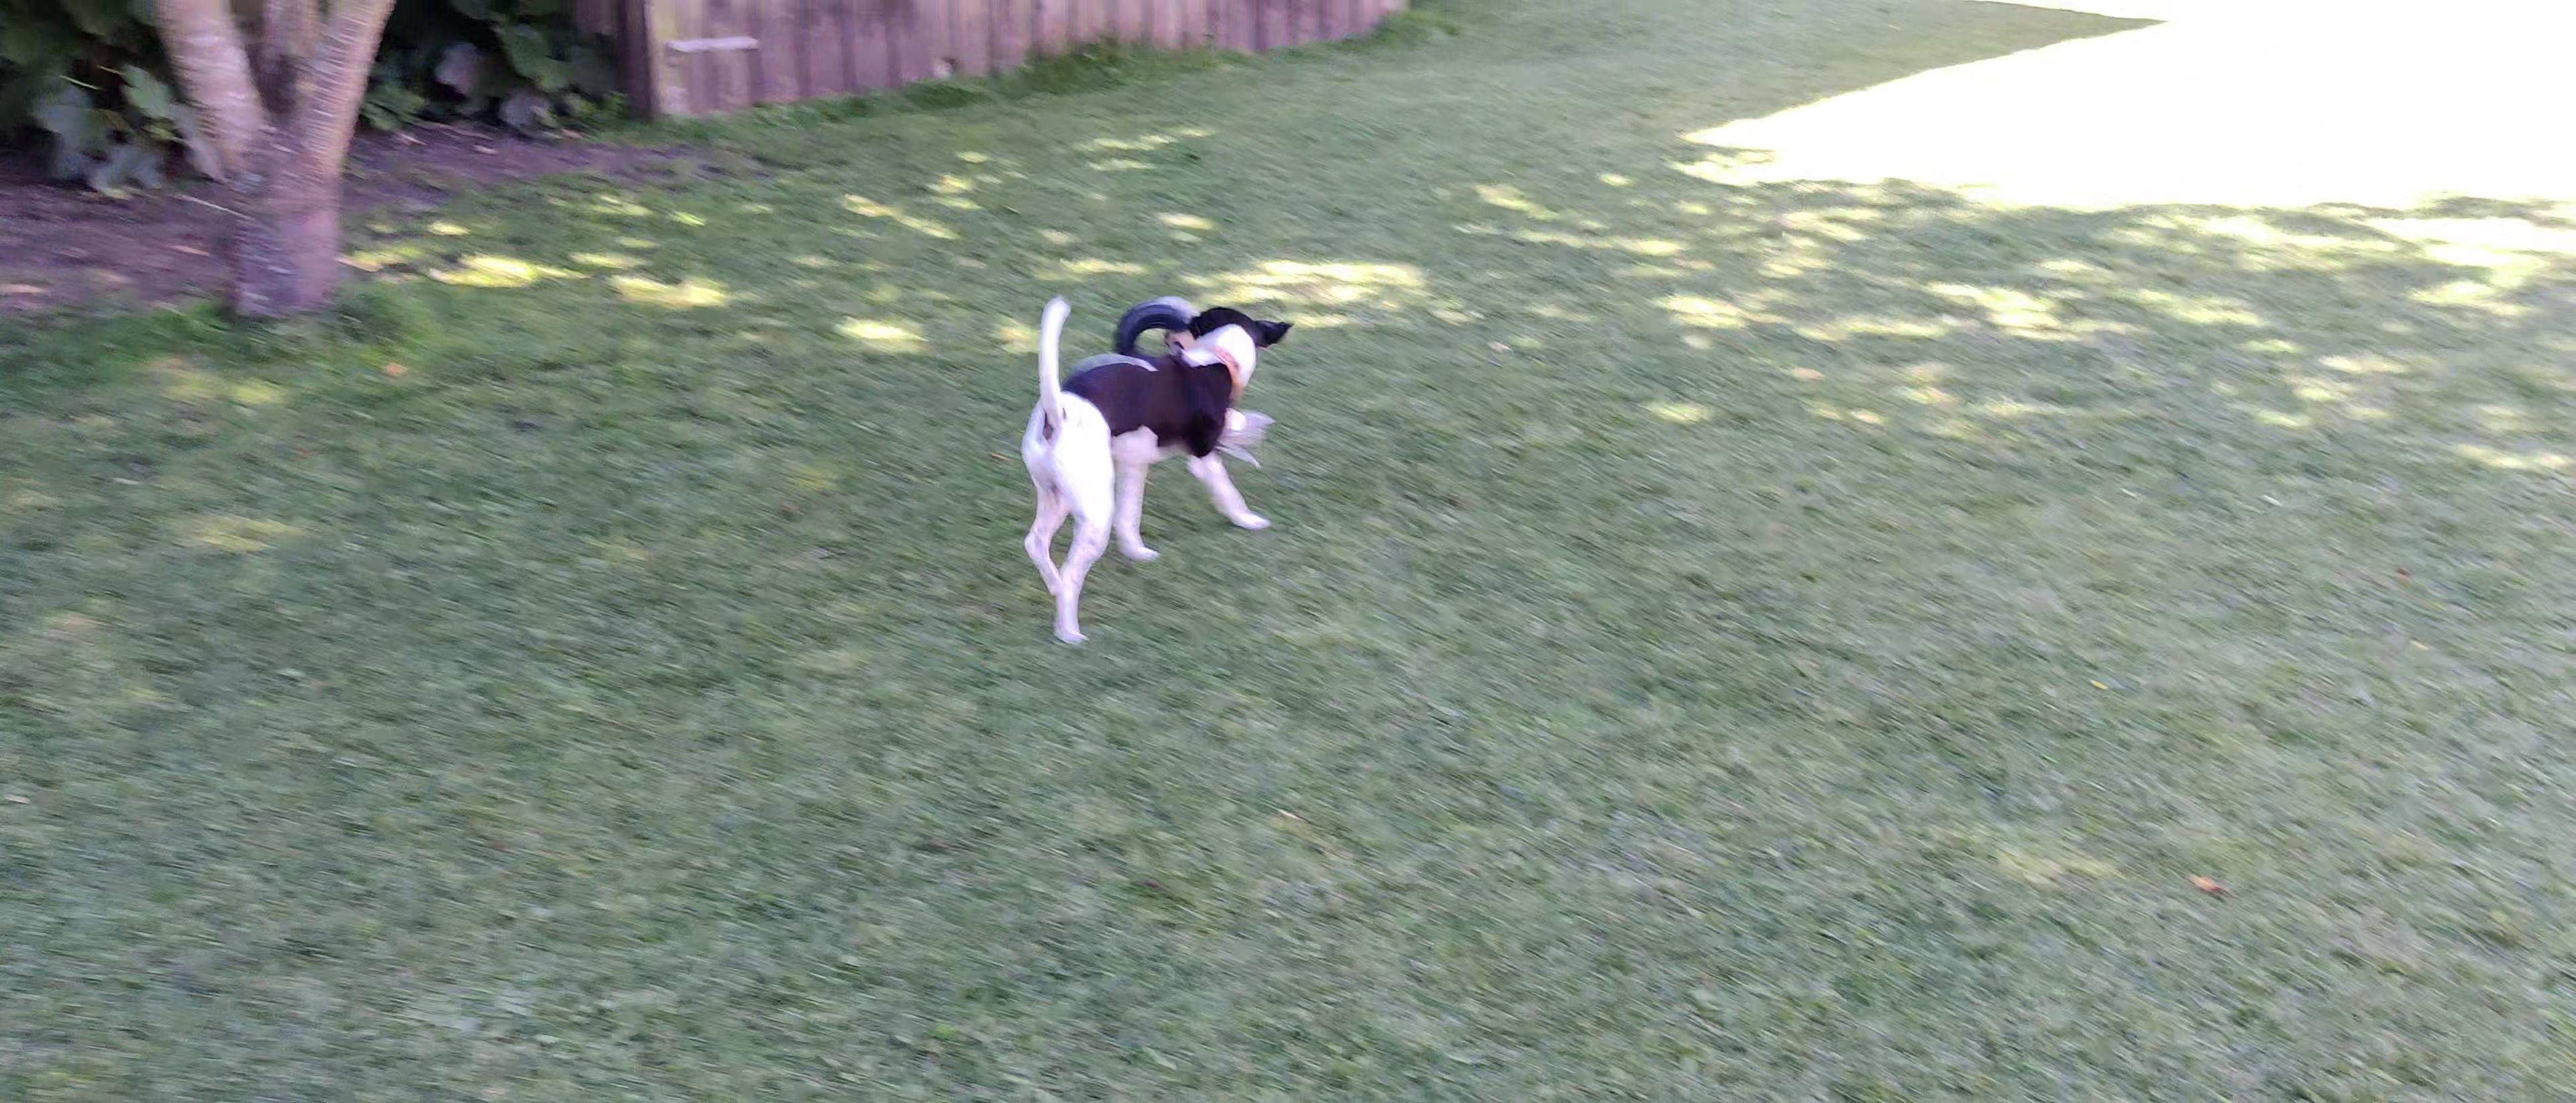Dog: (1015, 279, 1299, 646)
